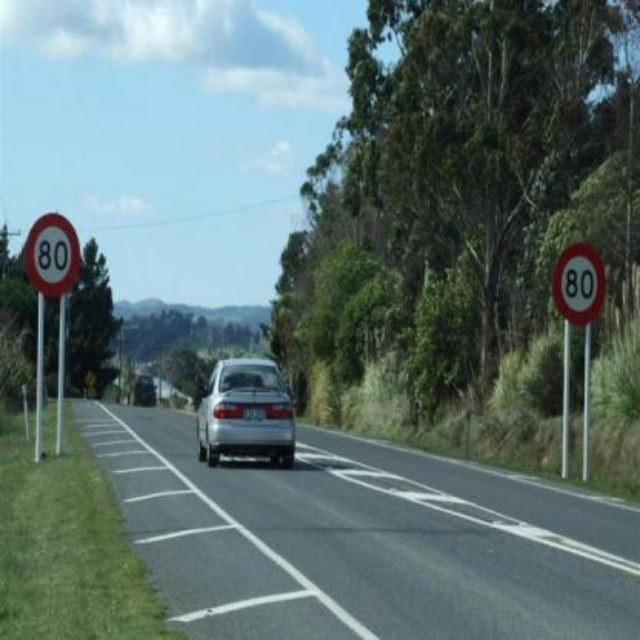Tốc độ tối đa cho phép 80km/h: (26, 213, 80, 293), (554, 244, 604, 325)
